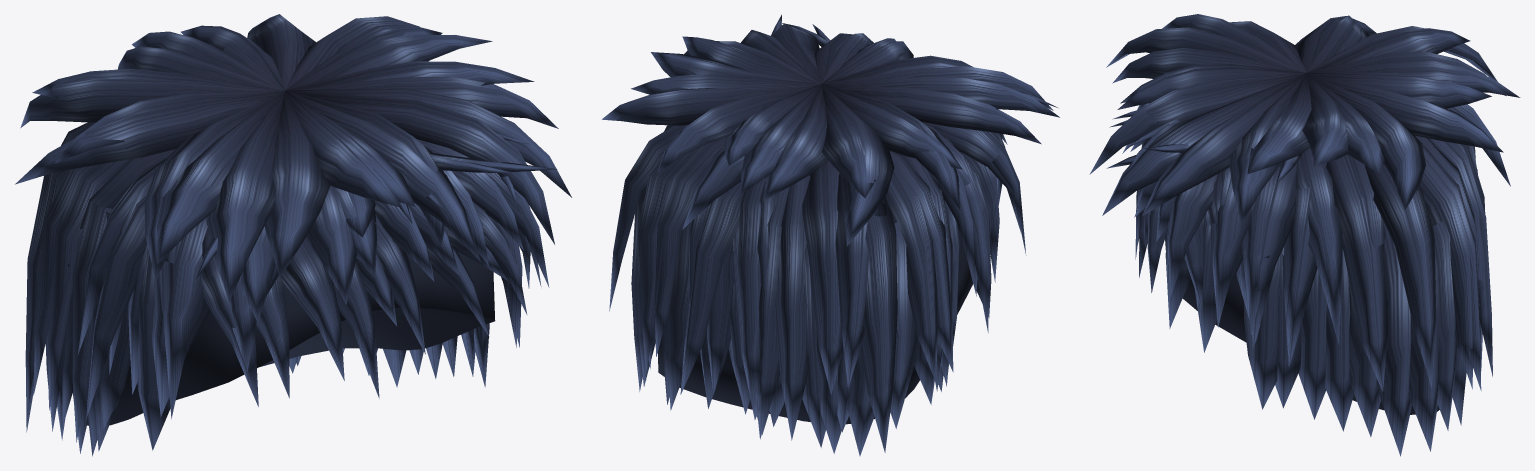
File: PeloHebras.fbx
3 renders of one model, left to right at view 1: azimuth 30°, elevation 25°; view 2: azimuth 150°, elevation 25°; view 3: azimuth 270°, elevation 25°, orthographic. The views are drawn at different scales.
Parts seen in each view (by area): view 1: PeloHebras; view 2: PeloHebras; view 3: PeloHebras.
Boxes of the visible parts, bbox=[...] form: PeloHebras: bbox=[15, 14, 571, 456]; PeloHebras: bbox=[602, 14, 1059, 456]; PeloHebras: bbox=[1089, 14, 1520, 456].
Bounding box in the file's own units: 2.16 × 1.75 × 2.12.
